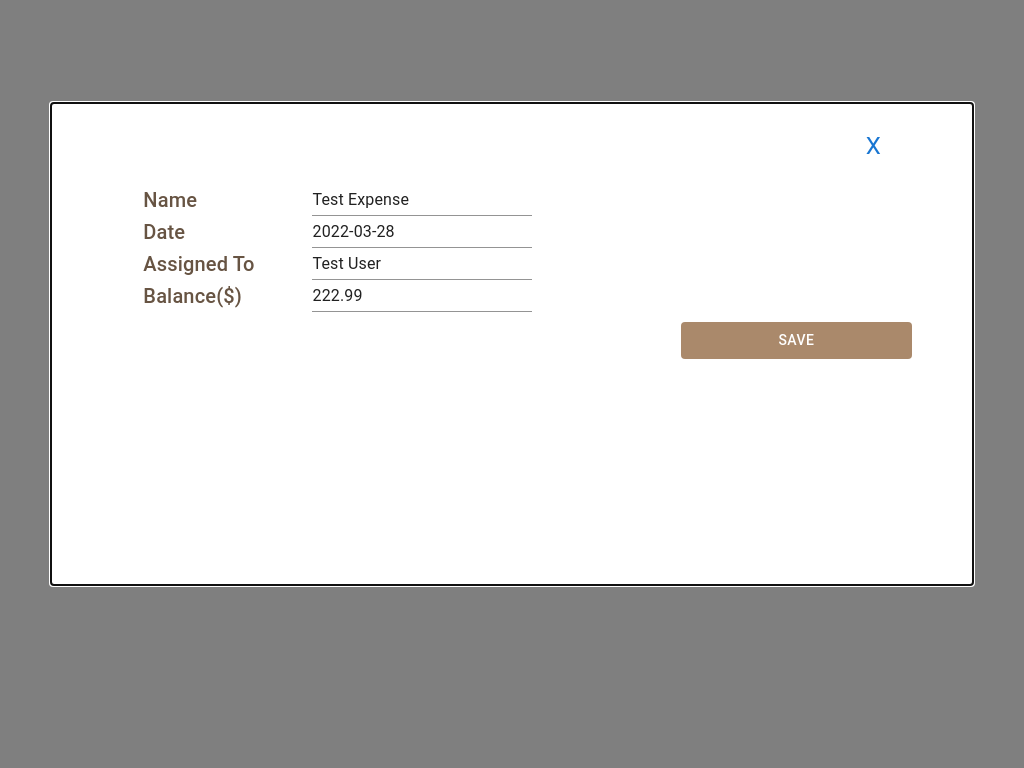
it: Testing <ExpensesOverlay /> Component › should have name error
Clear the field with id "expenses-overlay-name-field". click: (422,200)
box: left=312, top=184, right=532, bottom=216
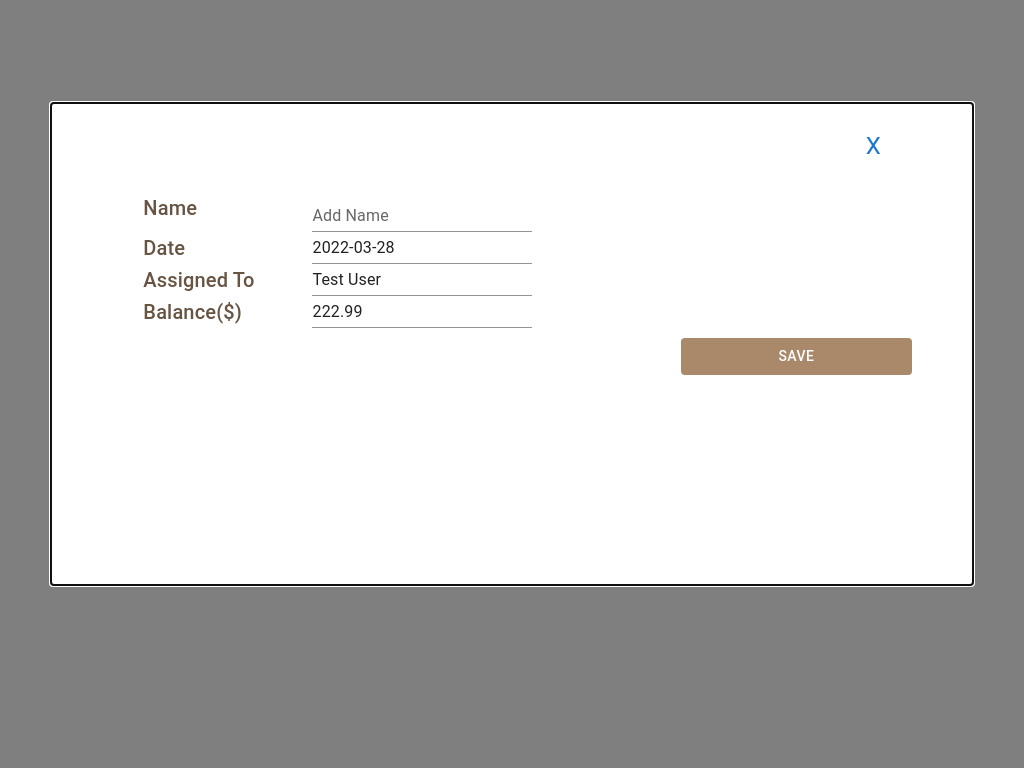
Click the button with id "expense-overlay-save-button". click: (796,357)
box: left=681, top=338, right=912, bottom=375
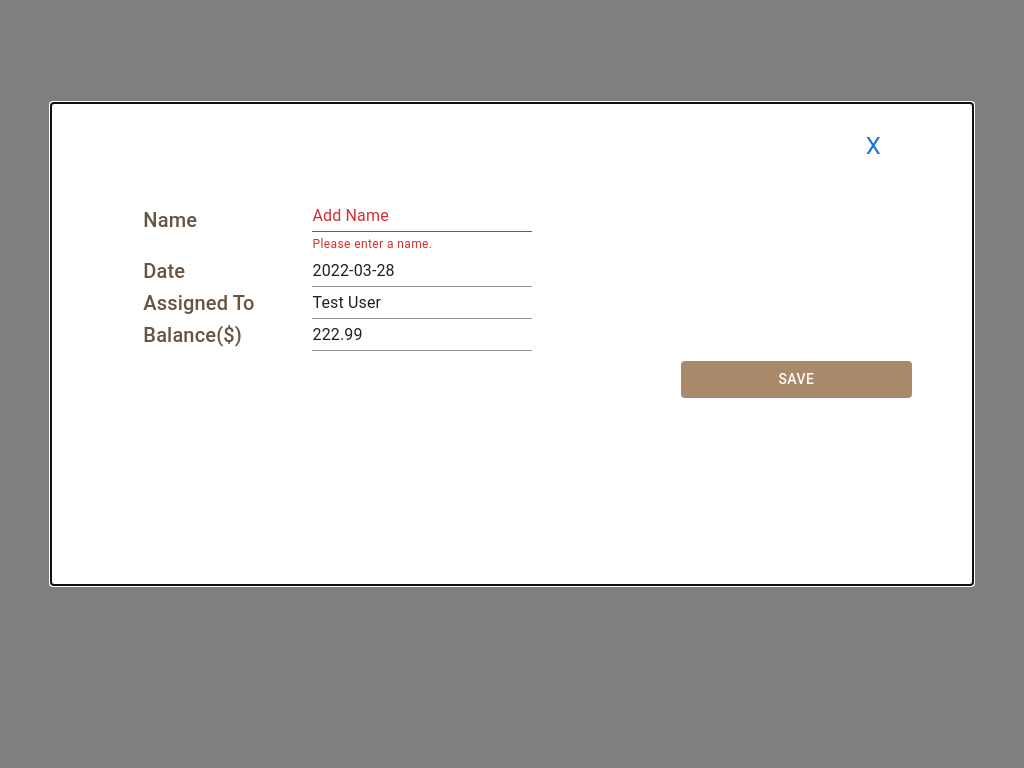
Now the text with id "expenses-overlay-name-field-helper-text" reads "Please enter a name.", box left=312, top=237, right=432, bottom=251
